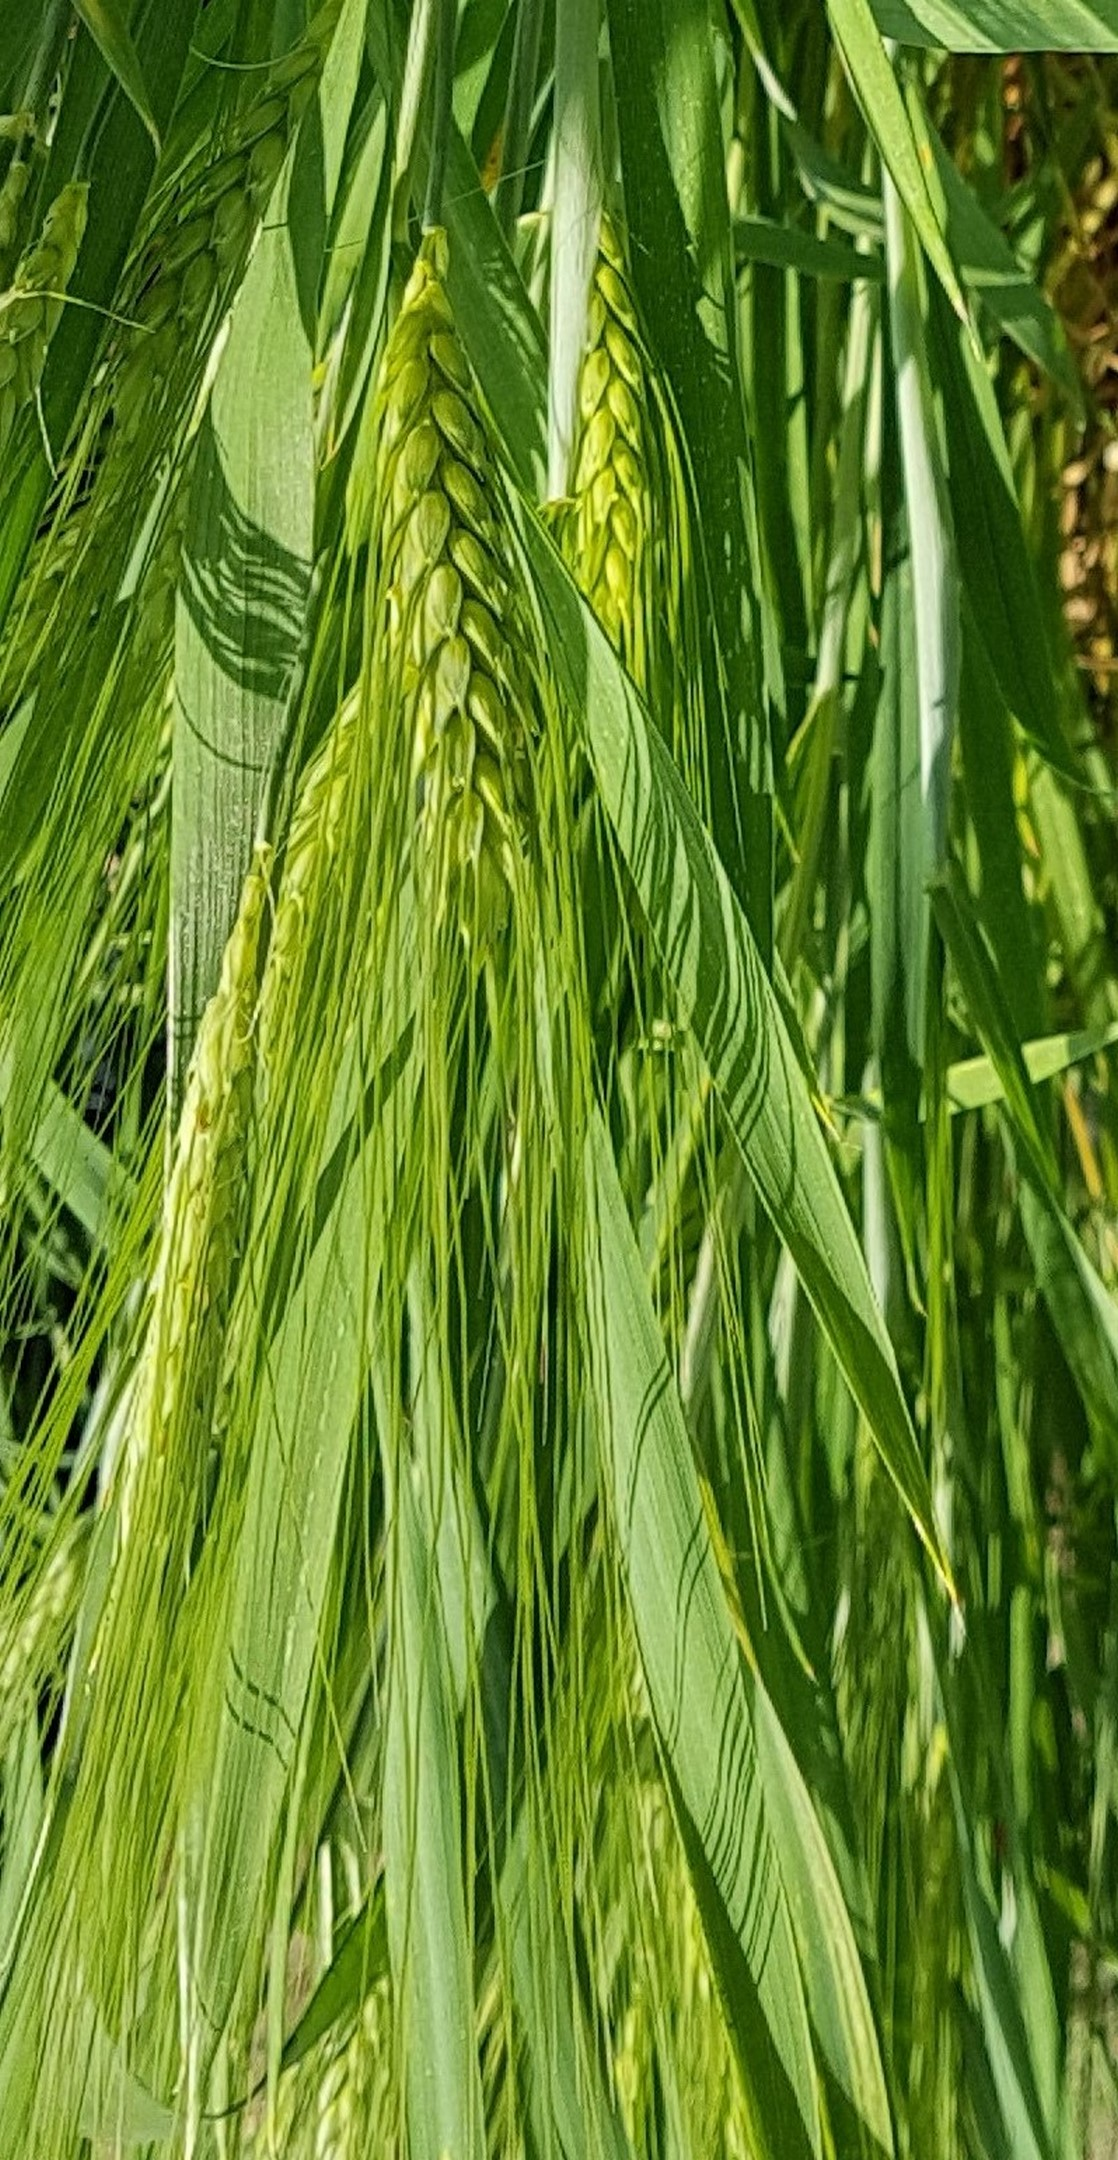Healthy Wheat: (342, 205, 562, 847)
